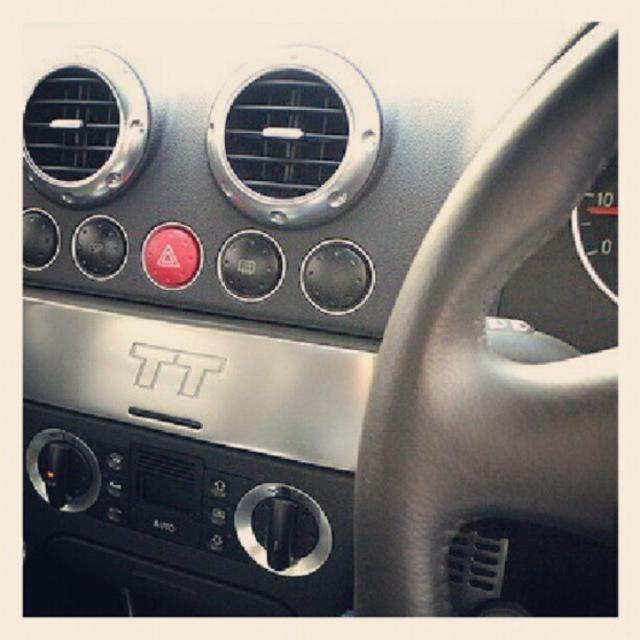car: (0, 14, 637, 639)
